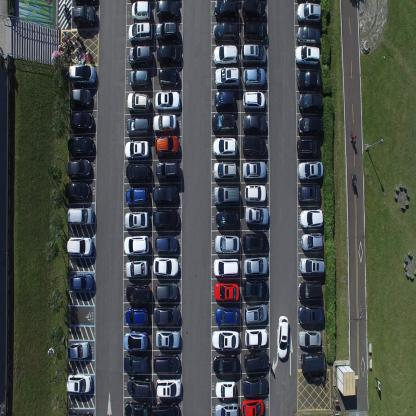car: (66, 134, 95, 158), (243, 348, 269, 374), (212, 183, 240, 206), (152, 207, 180, 230), (212, 329, 240, 352), (68, 63, 96, 86), (212, 20, 238, 44), (242, 230, 269, 253), (66, 235, 93, 258), (212, 352, 239, 375), (153, 352, 180, 375), (299, 208, 323, 233), (70, 109, 94, 134), (244, 204, 270, 227), (214, 231, 240, 254), (296, 1, 322, 24), (276, 314, 289, 360), (126, 375, 152, 398), (154, 89, 180, 112), (156, 43, 182, 66), (214, 65, 240, 88), (301, 352, 328, 374), (298, 304, 325, 326), (213, 256, 240, 278), (296, 160, 323, 182), (152, 254, 179, 276), (65, 372, 92, 394), (243, 256, 268, 279), (212, 159, 237, 182), (298, 91, 323, 114), (297, 68, 322, 91), (155, 327, 180, 350), (128, 44, 153, 67), (241, 133, 266, 156), (242, 21, 267, 44), (155, 160, 181, 182), (152, 183, 178, 205), (297, 114, 323, 136), (242, 374, 268, 396), (241, 42, 267, 64), (212, 44, 238, 66), (153, 305, 180, 326), (155, 377, 182, 398), (66, 206, 94, 226), (215, 207, 239, 230), (126, 162, 150, 185), (69, 86, 92, 110), (214, 280, 239, 302), (154, 136, 179, 158), (124, 233, 149, 255), (295, 44, 320, 66), (123, 330, 148, 352), (126, 114, 151, 136), (212, 136, 237, 158), (125, 283, 151, 304), (123, 353, 149, 374), (64, 180, 90, 201), (127, 22, 153, 43), (299, 256, 326, 276), (298, 279, 322, 301), (297, 183, 321, 205), (126, 186, 150, 208), (125, 257, 149, 279), (297, 137, 321, 159), (244, 326, 268, 348), (244, 302, 268, 324), (127, 92, 151, 114), (156, 20, 180, 42), (73, 6, 97, 28), (211, 112, 235, 134), (243, 66, 267, 88), (65, 157, 90, 178), (242, 112, 267, 133), (124, 140, 150, 160), (68, 273, 94, 293), (242, 279, 268, 299), (213, 0, 239, 20), (244, 182, 267, 204), (243, 89, 266, 111), (154, 280, 178, 301), (242, 160, 266, 181), (296, 25, 320, 46), (153, 112, 177, 133), (124, 210, 149, 230), (215, 306, 240, 326), (155, 0, 180, 20), (299, 329, 322, 350), (300, 232, 323, 253), (125, 306, 148, 327), (129, 67, 150, 90), (130, 0, 151, 23), (66, 340, 90, 360), (242, 0, 266, 20), (216, 379, 237, 401), (158, 67, 180, 88), (214, 89, 235, 111), (155, 234, 178, 254), (152, 400, 180, 416), (123, 400, 151, 416), (241, 397, 265, 415), (214, 401, 240, 415), (67, 408, 94, 416), (73, 0, 99, 7)
